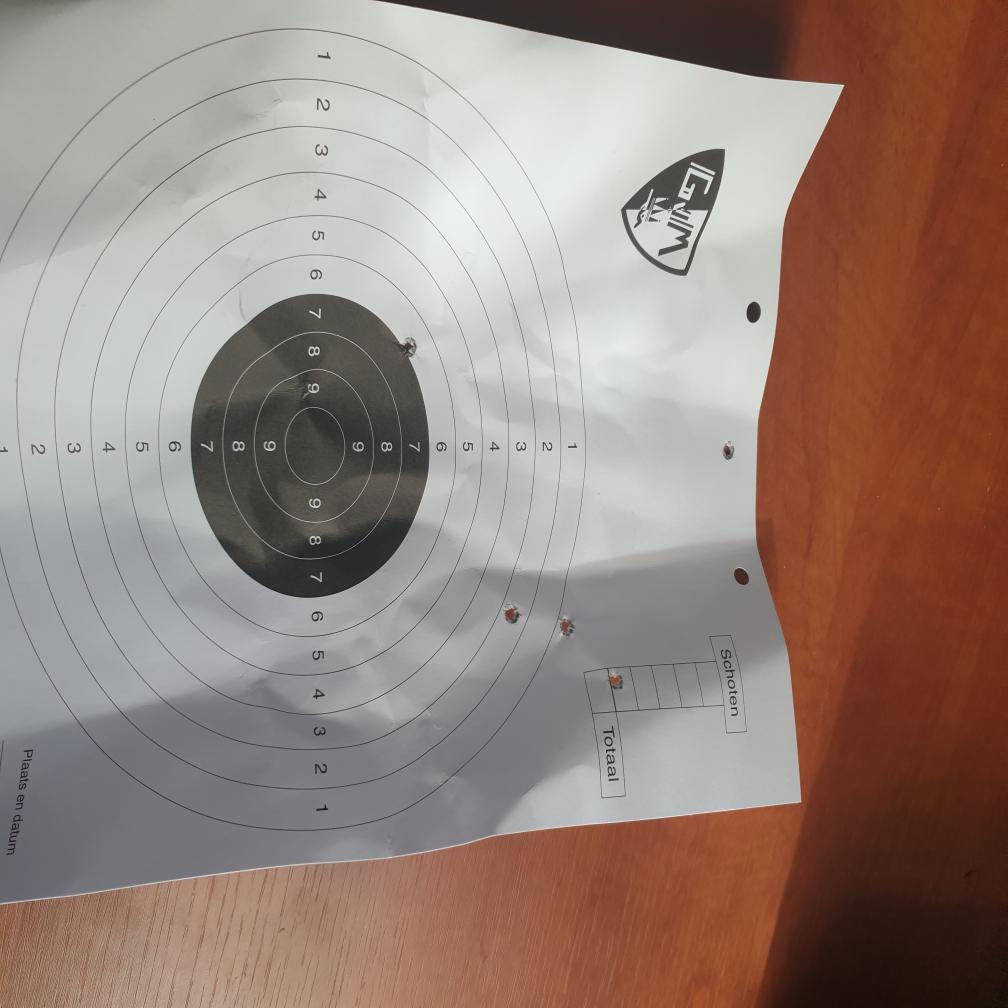0: (557, 615, 576, 637), (606, 670, 625, 690), (722, 441, 734, 461)
2: (504, 602, 522, 625)
7: (398, 333, 417, 362)
Target: (0, 24, 589, 838)
black_contour: (190, 292, 431, 600)
